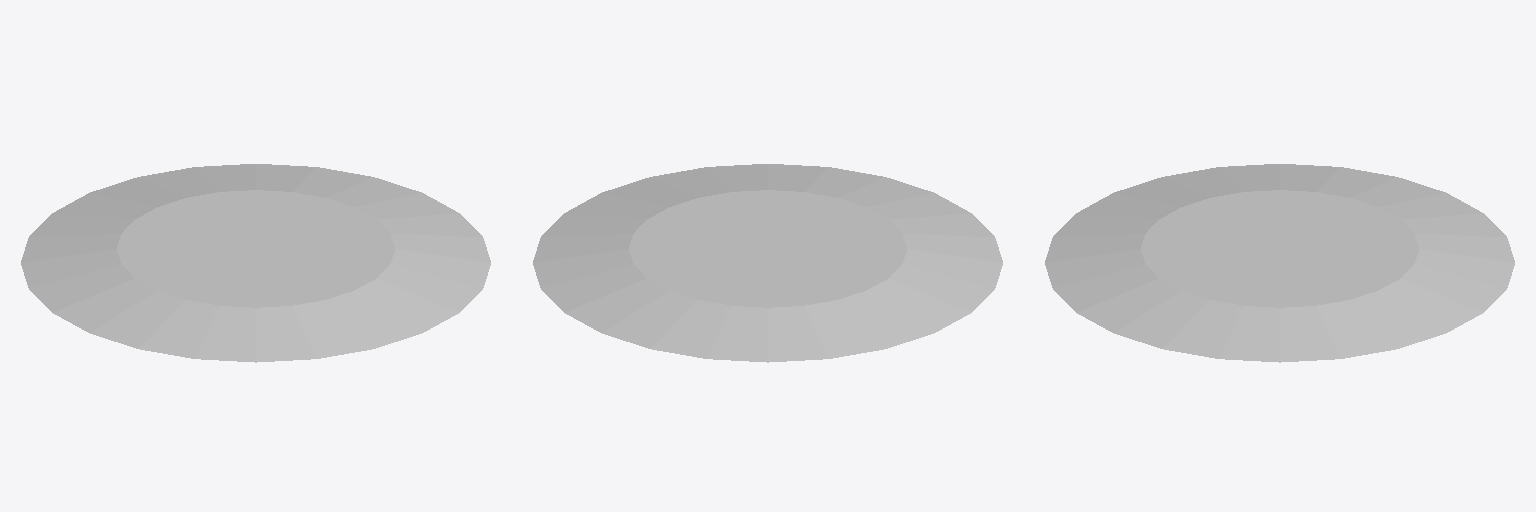
Rendered from chargingDock.obj.
3 views of the same model, side by side, from view 1: azimuth 30°, elevation 25°; view 2: azimuth 150°, elevation 25°; view 3: azimuth 270°, elevation 25° (orthographic).
Visible parts, largest first — view 1: Cylinder_Cylinder.001; view 2: Cylinder_Cylinder.001; view 3: Cylinder_Cylinder.001.
Part boxes in pixels (bbox=[...]): Cylinder_Cylinder.001: bbox=[21, 164, 490, 362]; Cylinder_Cylinder.001: bbox=[533, 164, 1002, 362]; Cylinder_Cylinder.001: bbox=[1045, 164, 1514, 362].
Bounding box in the file's own units: 2.4 × 0.0797 × 2.4.